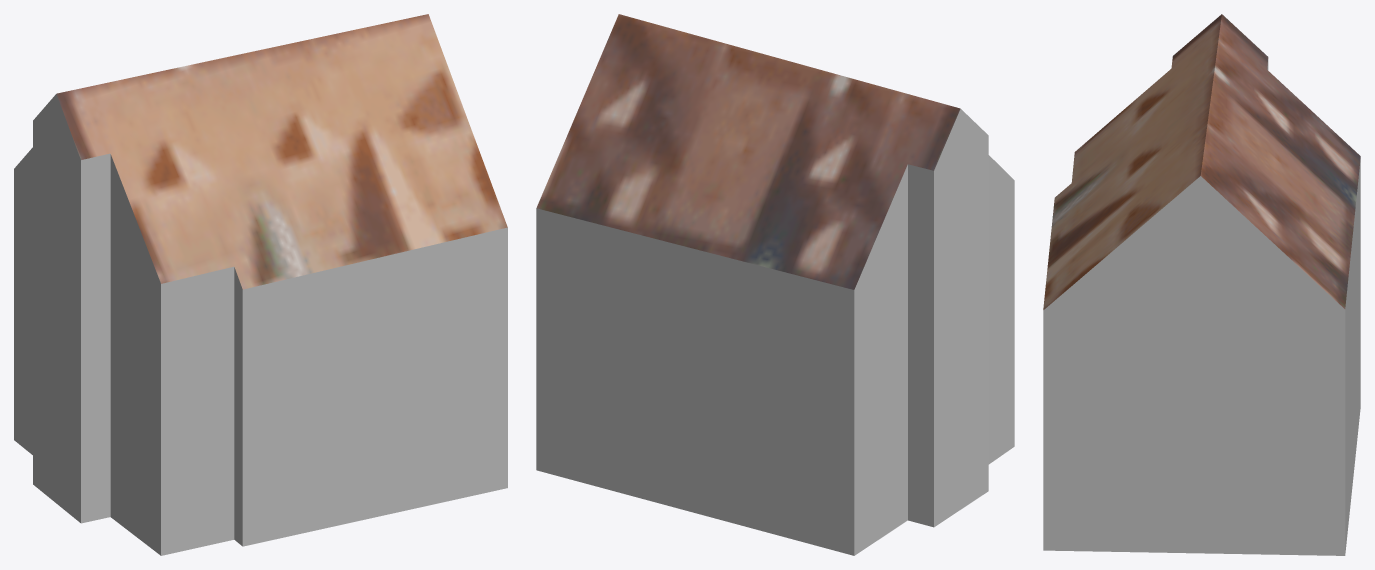
File: DEBW_0010007Tvkx.gltf
The picture shows the model from 3 angles, left to right: view 1: azimuth 30°, elevation 25°; view 2: azimuth 150°, elevation 25°; view 3: azimuth 270°, elevation 25°; orthographic projection. The views are drawn at different scales.
Parts seen in each view (by area): view 1: Z_UP; view 2: Z_UP; view 3: Z_UP.
Part boxes in pixels (x1,y1,x2,y2): Z_UP: (14,14,507,555); Z_UP: (536,14,1014,555); Z_UP: (1043,14,1360,555).
Size of the model in its own units: 19.36 by 20.59 by 15.7.
Materials: 2 (1 with a texture image).
